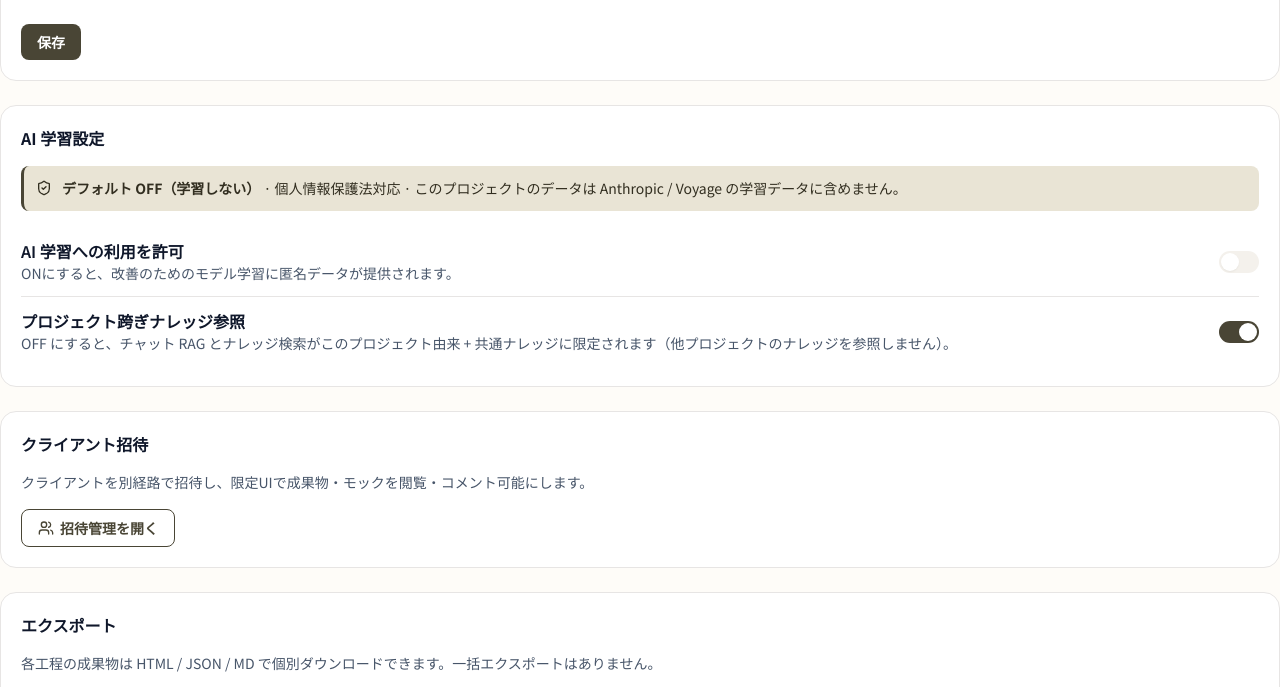
Test: S-B03 跨ぎナレッジ参照トグル (GAP-017) › GET の実値で初期化され、切替で PATCH cross_project_knowledge が飛ぶ
(page scrolled)
What coordinates should you click on to do the following:
click the checkbox named "プロジェクト跨ぎナレッジ参照"
I would click on:
 (1239, 332)
Its box is [1219, 321, 1259, 343].
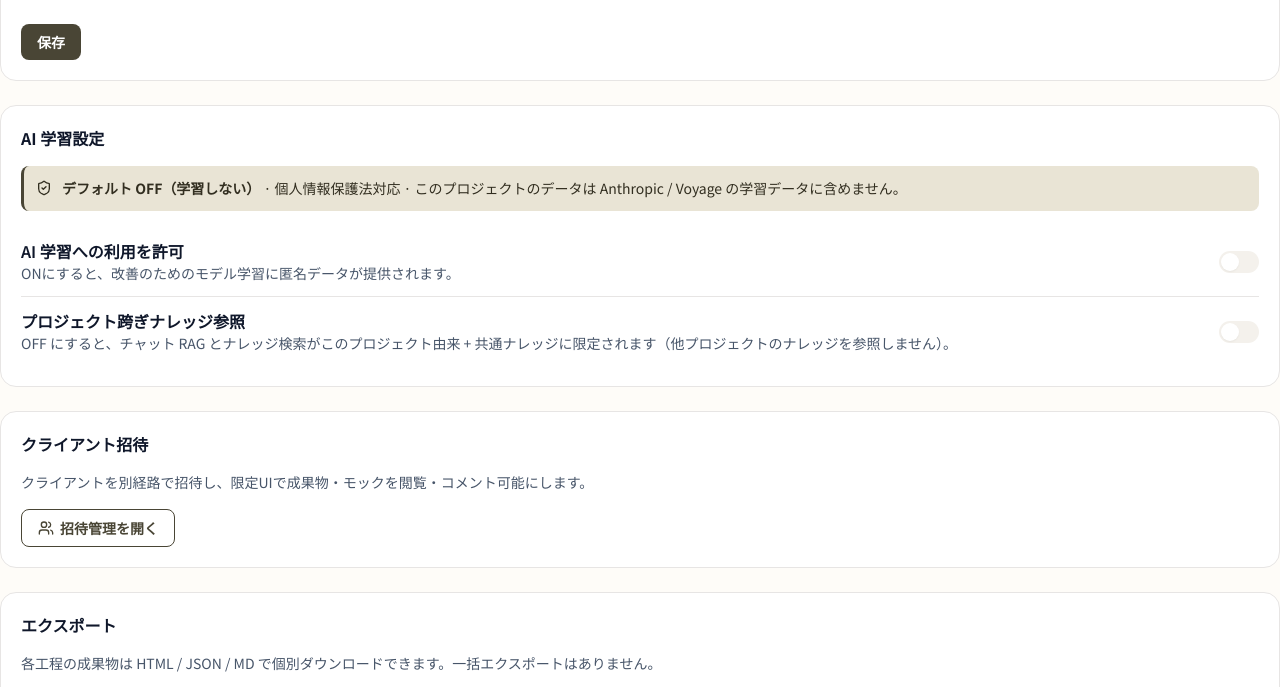
Now the checkbox named "プロジェクト跨ぎナレッジ参照" is not checked, box [1219, 321, 1259, 343]
